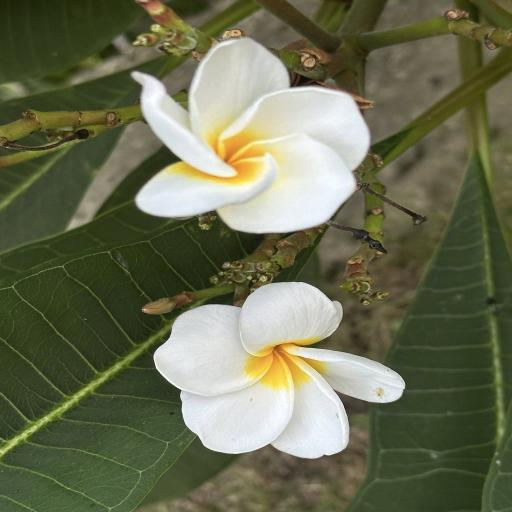Frangipani: (120, 36, 380, 240), (145, 277, 414, 466)
